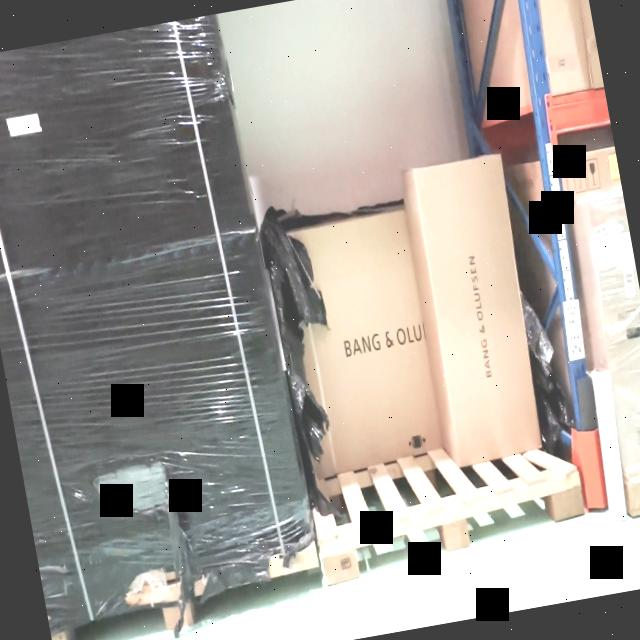box: (413, 151, 544, 463)
